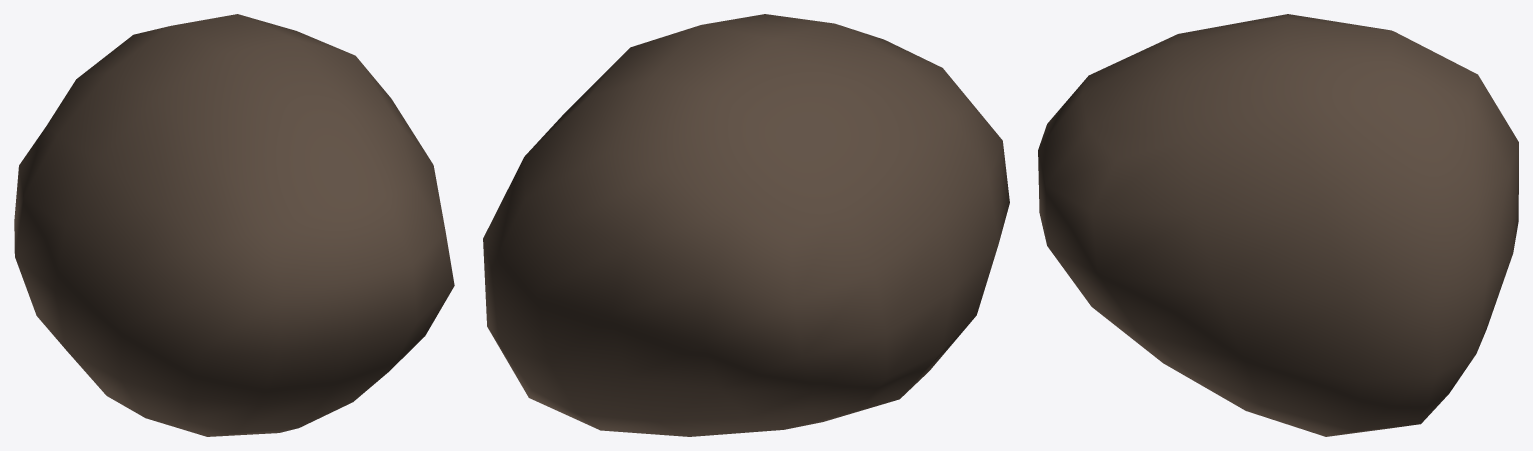
File: Rock_Large_1.fbx
3 renders of one model, left to right at view 1: azimuth 30°, elevation 25°; view 2: azimuth 150°, elevation 25°; view 3: azimuth 270°, elevation 25°, orthographic. The views are drawn at different scales.
Parts seen in each view (by area): view 1: pCube1; view 2: pCube1; view 3: pCube1.
Boxes of the visible parts, x1=… form: pCube1: x1=14, y1=14, x2=454, y2=436; pCube1: x1=483, y1=14, x2=1009, y2=436; pCube1: x1=1038, y1=14, x2=1518, y2=436.
Size of the model in its own units: 235 by 221 by 263.
